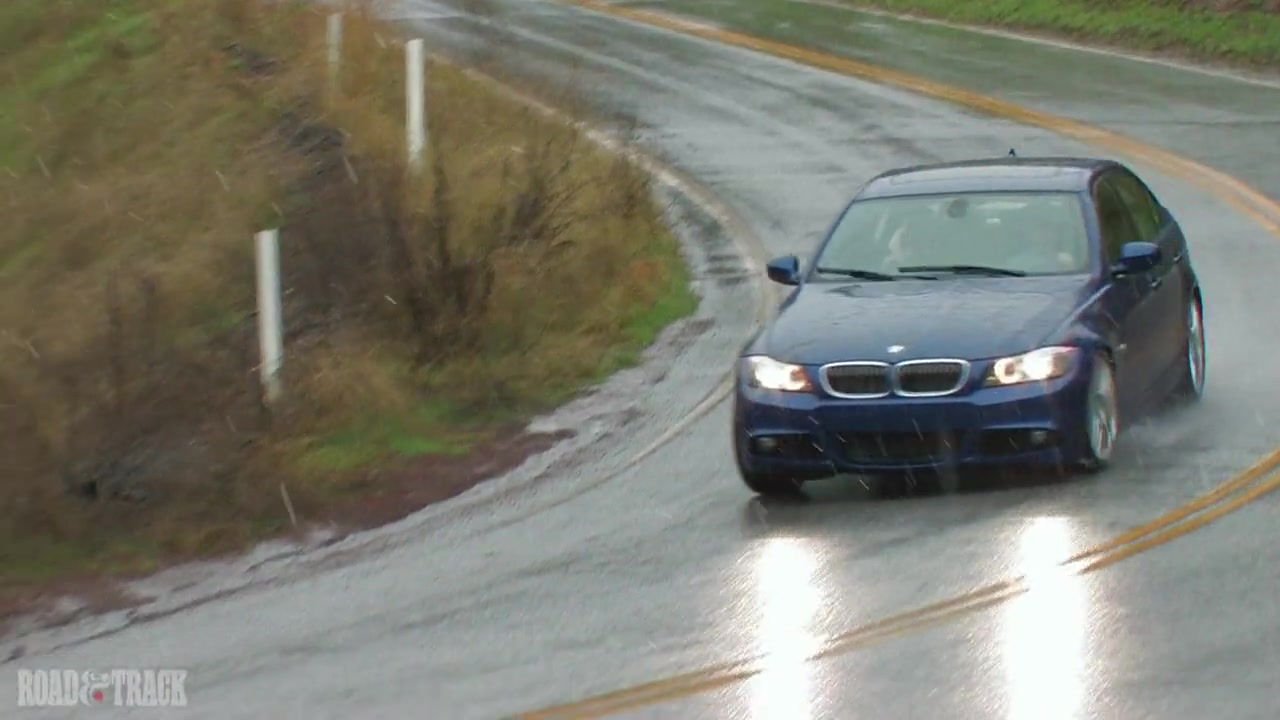car: (728, 151, 1207, 501)
